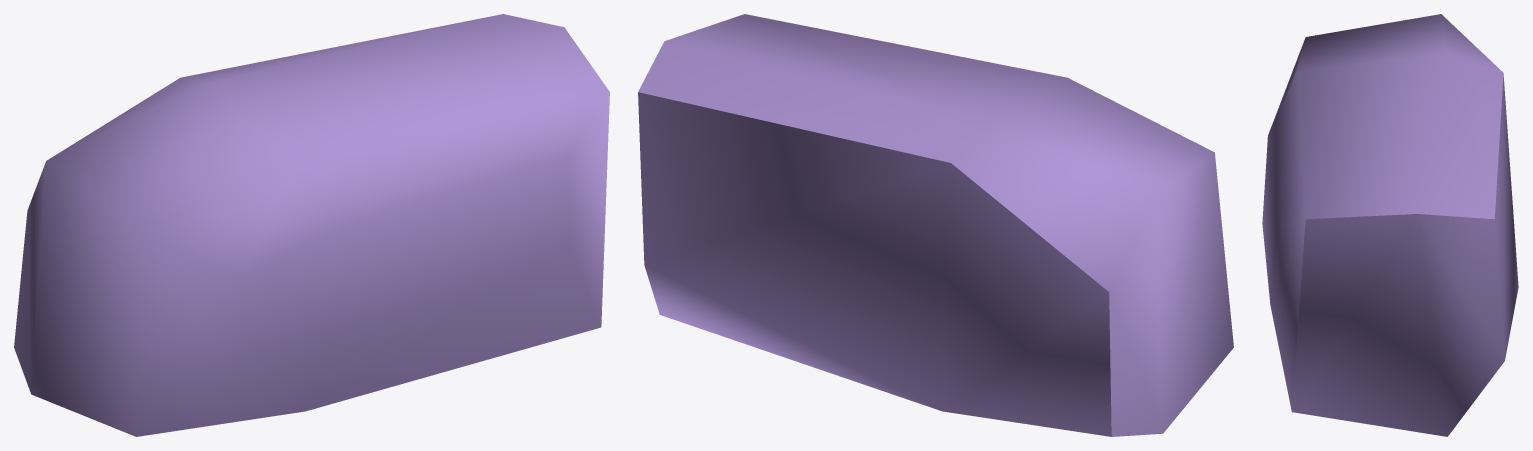
Rendered from stone_c.fbx.
The picture shows the model from 3 angles, left to right: view 1: azimuth 30°, elevation 25°; view 2: azimuth 150°, elevation 25°; view 3: azimuth 270°, elevation 25°; orthographic projection. The views are drawn at different scales.
Parts seen in each view (by area): view 1: Cube.004; view 2: Cube.004; view 3: Cube.004.
Boxes of the visible parts, bbox=[...] form: Cube.004: bbox=[14, 14, 609, 436]; Cube.004: bbox=[638, 14, 1233, 436]; Cube.004: bbox=[1262, 14, 1518, 436].
Bounding box in the file's own units: 1.61 × 0.8274 × 0.7804.
